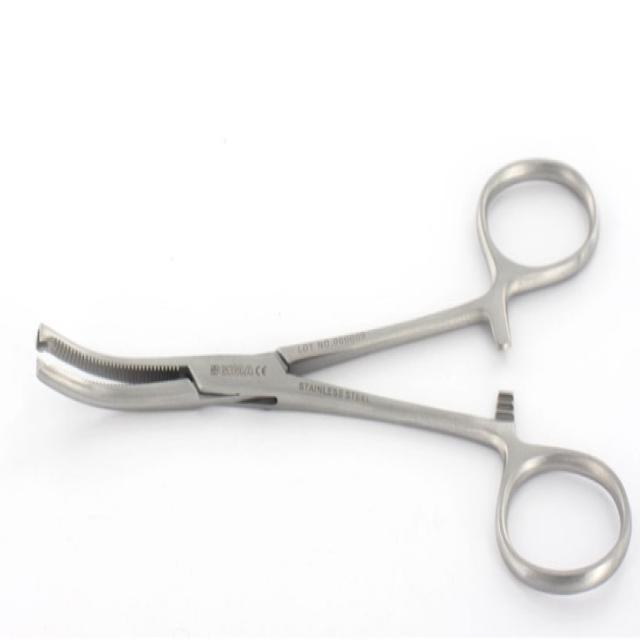Kocher Forceps: (26, 145, 631, 594)
